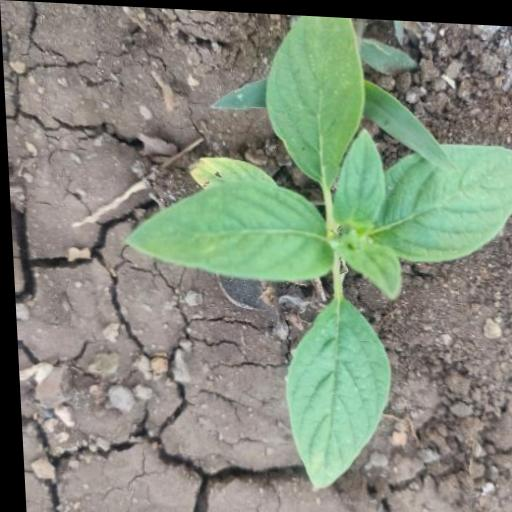crop: (99, 4, 512, 496)
